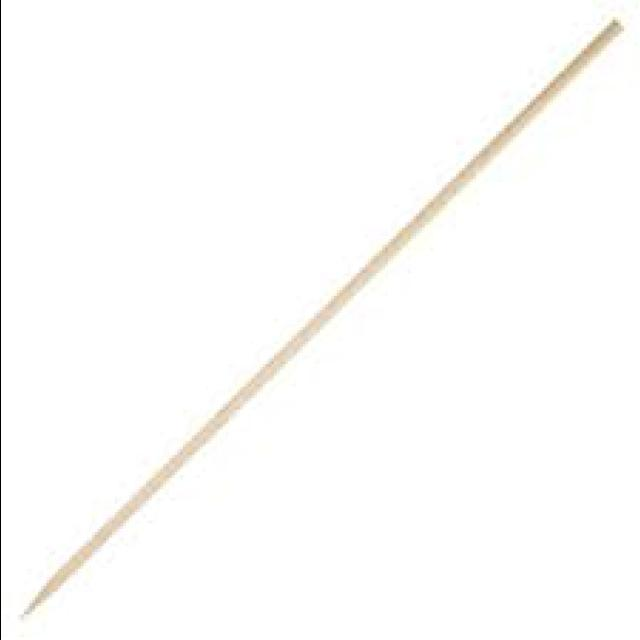stick: (21, 22, 621, 616)
